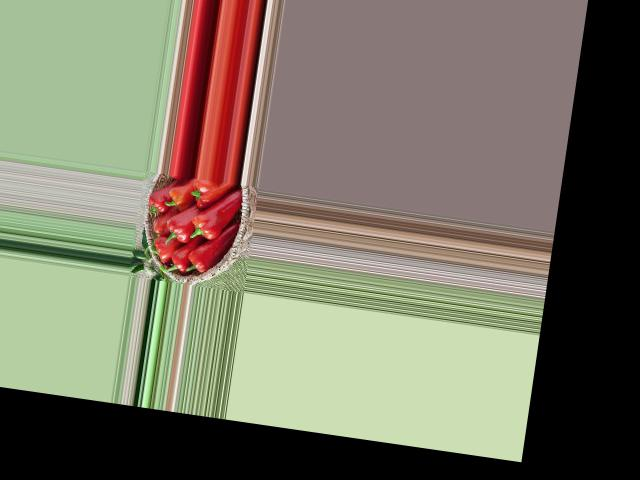bell_pepper: (165, 244, 193, 277)
